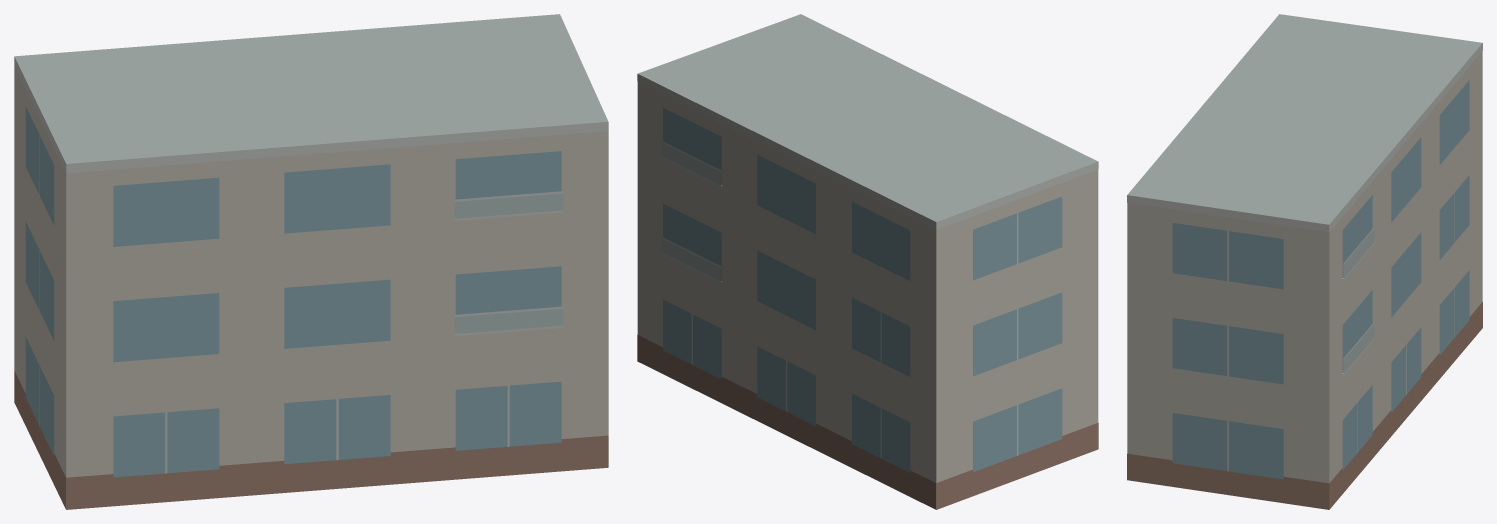
The model's file is survey-upis-32544068.glb.
3 views of the same model, side by side, from view 1: azimuth 30°, elevation 25°; view 2: azimuth 150°, elevation 25°; view 3: azimuth 270°, elevation 25° (orthographic). The views are drawn at different scales.
Visible parts, largest first — view 1: survey-upis-32544068.tmp; view 2: survey-upis-32544068.tmp; view 3: survey-upis-32544068.tmp.
Boxes of the visible parts, x1,y1,x2,y2 form: survey-upis-32544068.tmp: [14, 14, 608, 509]; survey-upis-32544068.tmp: [637, 14, 1098, 509]; survey-upis-32544068.tmp: [1127, 14, 1482, 509].
Size of the model in its own units: 14.52 by 9.15 by 10.36.
